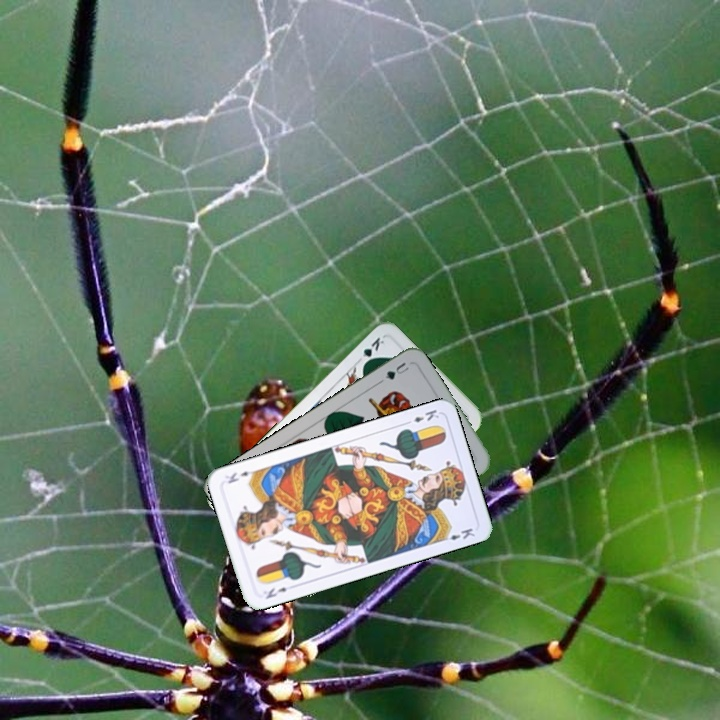EK: (401, 405, 442, 427), (262, 583, 290, 602)
GK: (353, 333, 387, 369)
GU: (381, 358, 412, 382)
